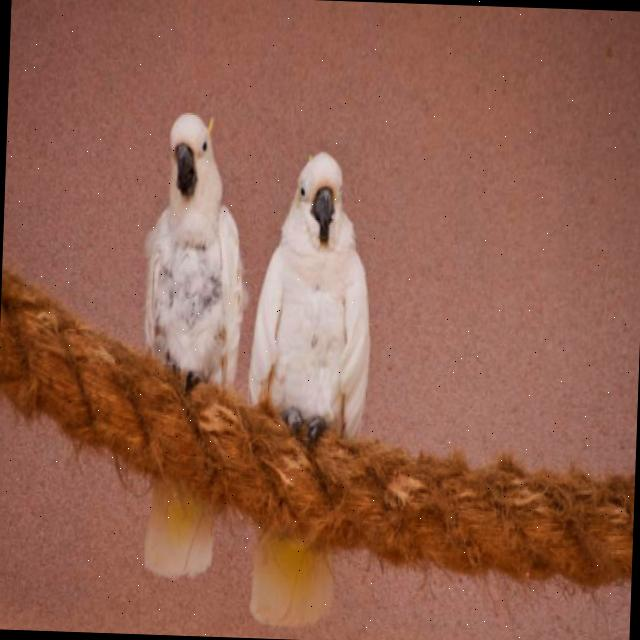Kakatua Putih: (100, 55, 260, 602), (231, 129, 384, 640)
